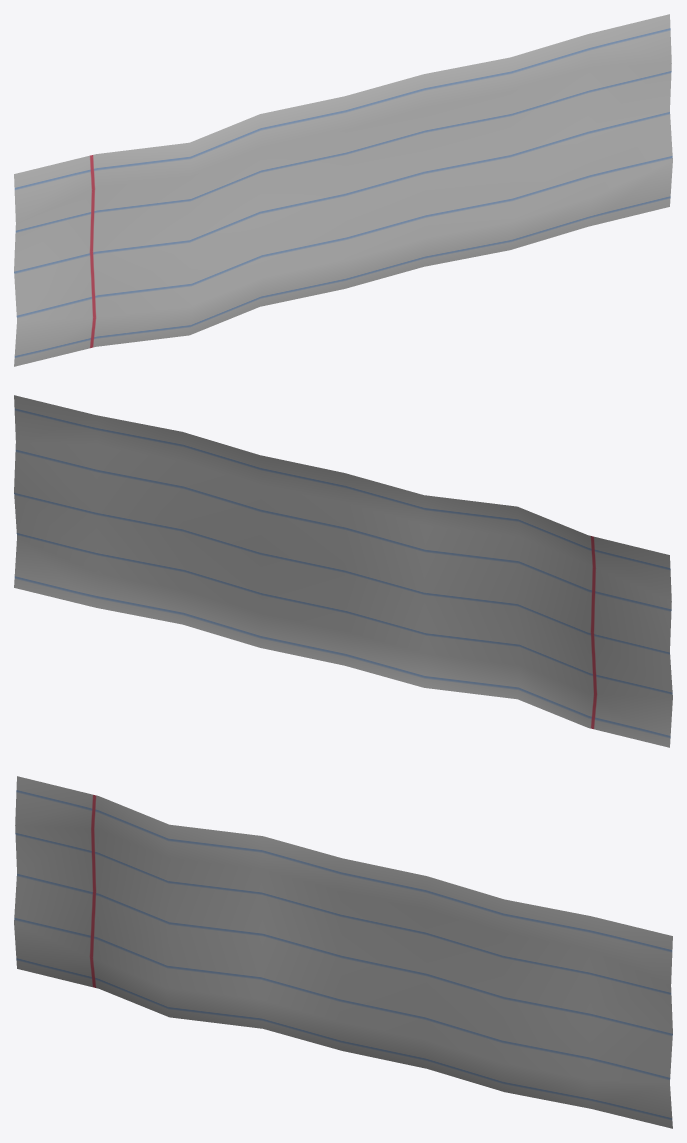
Rendered from M_CardboardDecals_Paper.fbx.
3 views of the same model, one above another, from view 1: azimuth 30°, elevation 25°; view 2: azimuth 150°, elevation 25°; view 3: azimuth 330°, elevation 25° (orthographic).
Parts seen in each view (by area): view 1: M_CardboardDecals_Paper; view 2: M_CardboardDecals_Paper; view 3: M_CardboardDecals_Paper.
Boxes of the visible parts, box(x1,y1,x2,y2) form: M_CardboardDecals_Paper: box(14, 14, 672, 366); M_CardboardDecals_Paper: box(14, 395, 672, 747); M_CardboardDecals_Paper: box(14, 776, 672, 1128).
Bounding box in the file's own units: 4.36 × 1.22 × 0.1693.
1 material, 1 textured.
